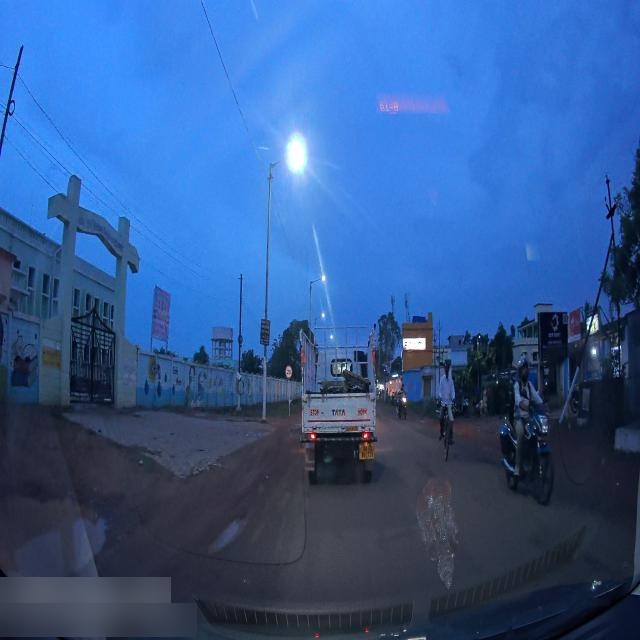pothole: (18, 514, 108, 589), (203, 509, 247, 554)
